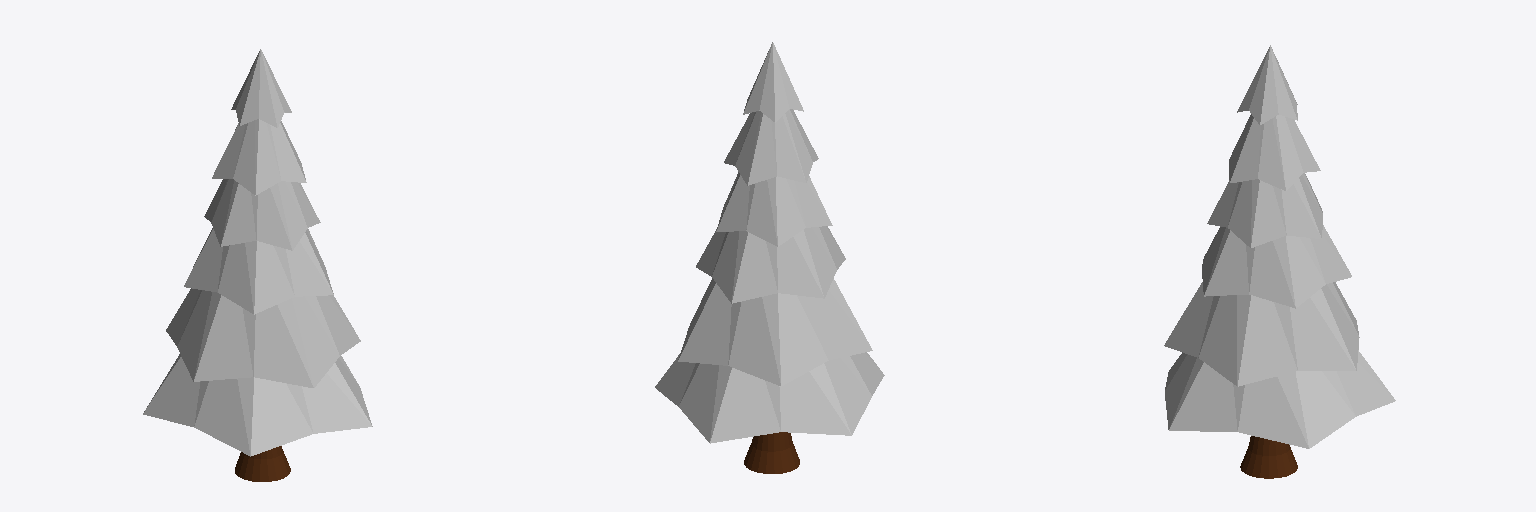
3 renders of one model, left to right at view 1: azimuth 30°, elevation 25°; view 2: azimuth 150°, elevation 25°; view 3: azimuth 270°, elevation 25°, orthographic.
Parts seen in each view (by area): view 1: Cylinder_Cylinder.001, Cylinder.001_Cylinder.002; view 2: Cylinder_Cylinder.001, Cylinder.001_Cylinder.002; view 3: Cylinder_Cylinder.001, Cylinder.001_Cylinder.002.
Boxes of the visible parts, <box> form: Cylinder_Cylinder.001: <box>143,49,372,456</box>; Cylinder.001_Cylinder.002: <box>235,446,290,481</box>; Cylinder_Cylinder.001: <box>655,42,884,443</box>; Cylinder.001_Cylinder.002: <box>744,432,799,473</box>; Cylinder_Cylinder.001: <box>1164,45,1395,448</box>; Cylinder.001_Cylinder.002: <box>1240,436,1297,478</box>.
Bounding box in the file's own units: 5.28 × 10.78 × 5.38.
Materials: 2 (1 with a texture image).